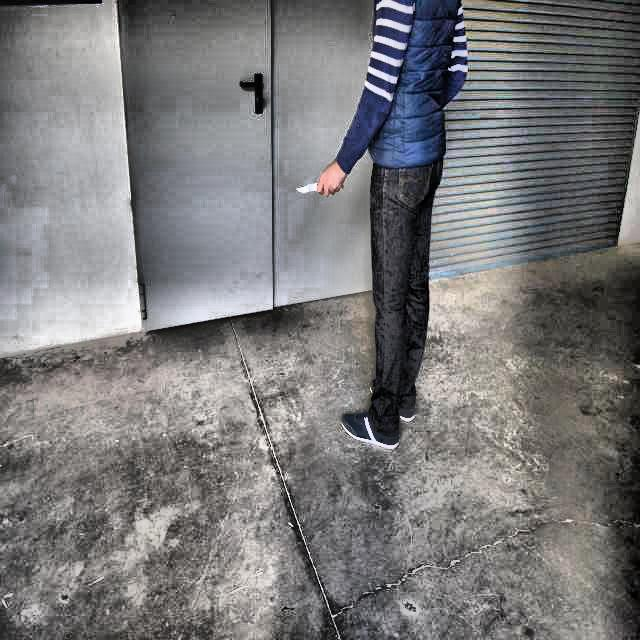knife: (298, 184, 322, 194)
